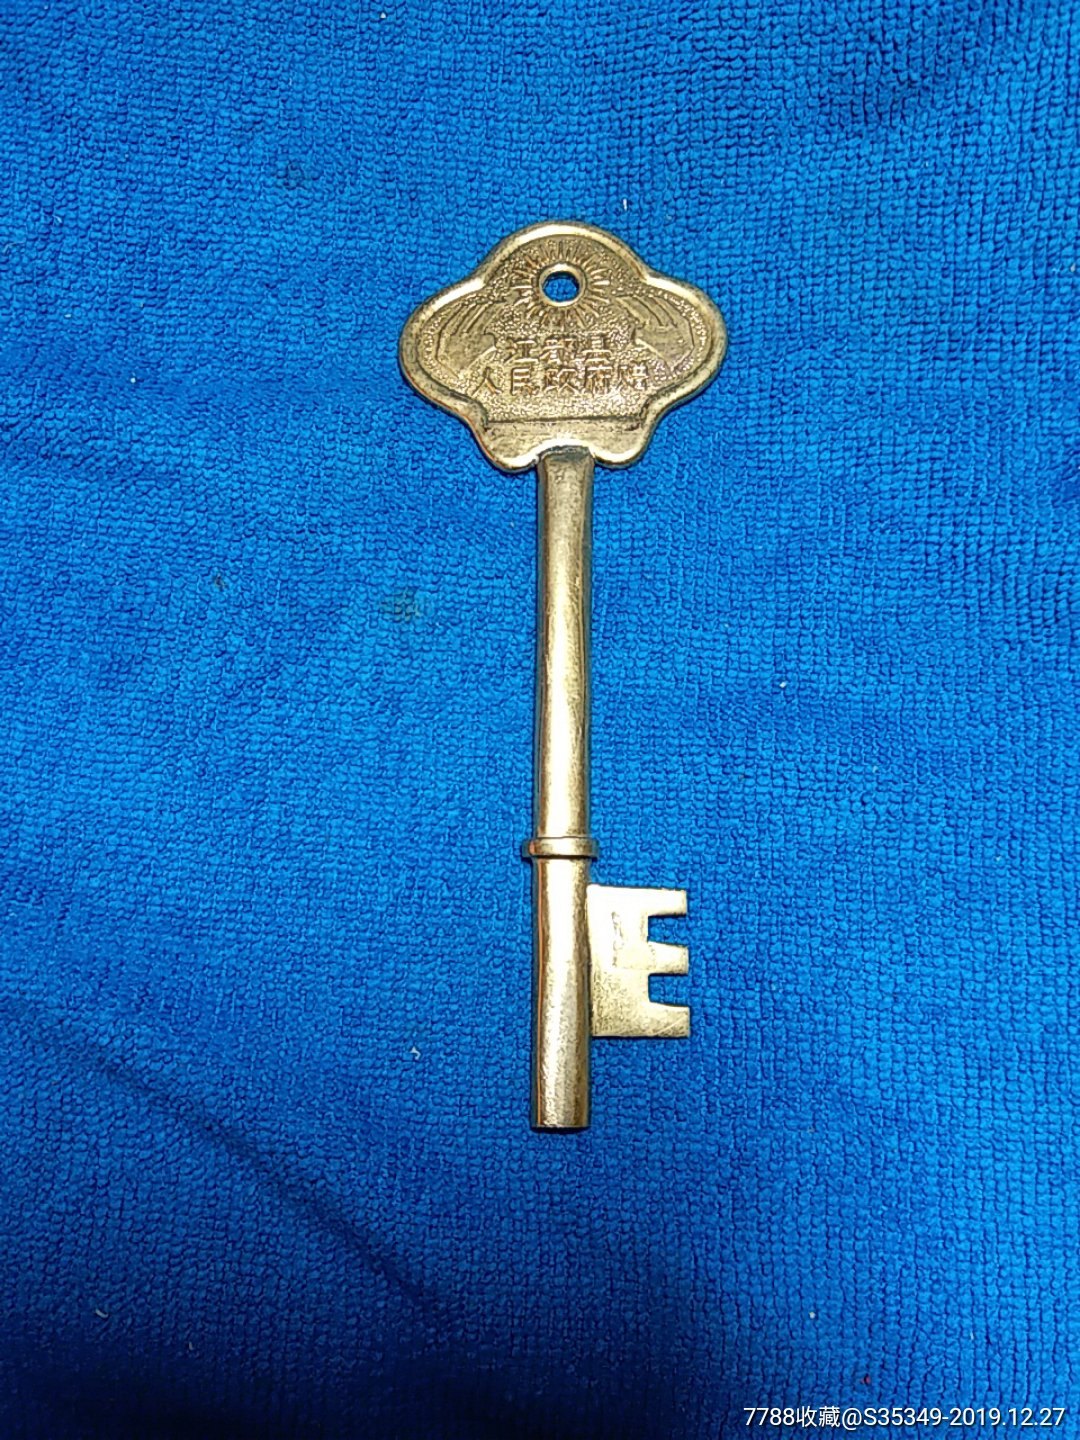key: (388, 213, 743, 1176)
